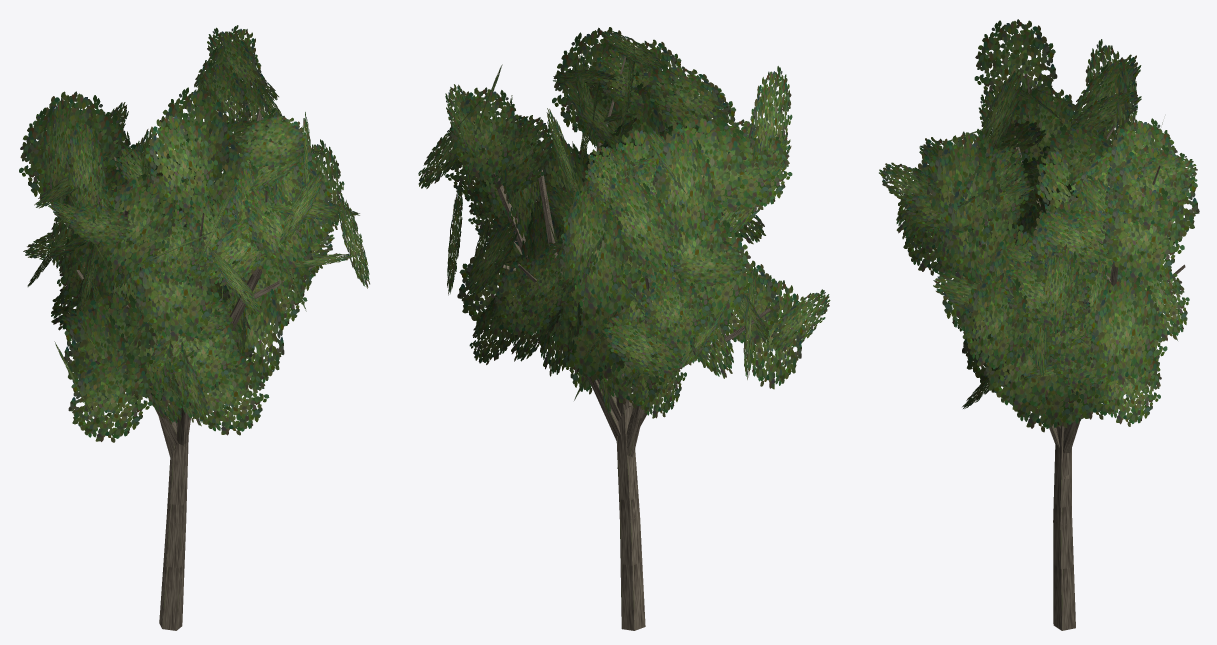
Rendered from CommonTree_4_LOD1.gltf.
3 renders of one model, left to right at view 1: azimuth 30°, elevation 25°; view 2: azimuth 150°, elevation 25°; view 3: azimuth 270°, elevation 25°, orthographic. The views are drawn at different scales.
Parts seen in each view (by area): view 1: CommonTree_4_LOD1; view 2: CommonTree_4_LOD1; view 3: CommonTree_4_LOD1.
Boxes of the visible parts, bbox=[...] form: CommonTree_4_LOD1: bbox=[19, 25, 369, 630]; CommonTree_4_LOD1: bbox=[418, 27, 830, 630]; CommonTree_4_LOD1: bbox=[879, 19, 1199, 630].
Size of the model in its own units: 13.89 by 21.68 by 11.73.
Materials: 2 (2 with a texture image).
